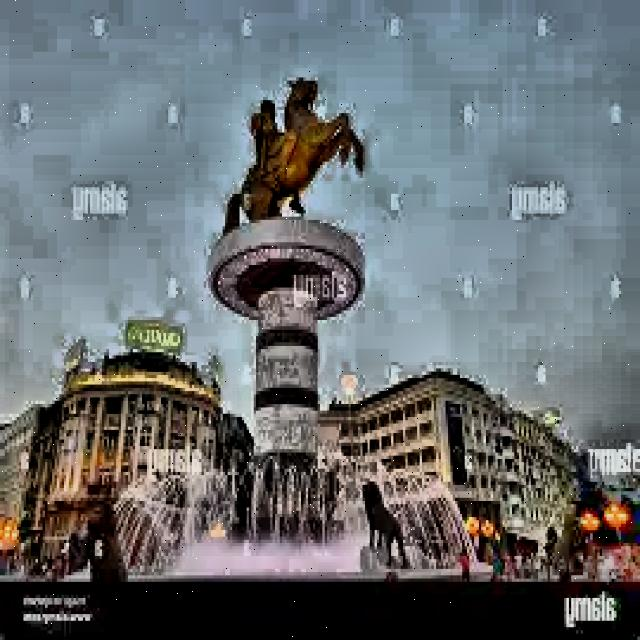alexander the great monument: (208, 66, 381, 554)
